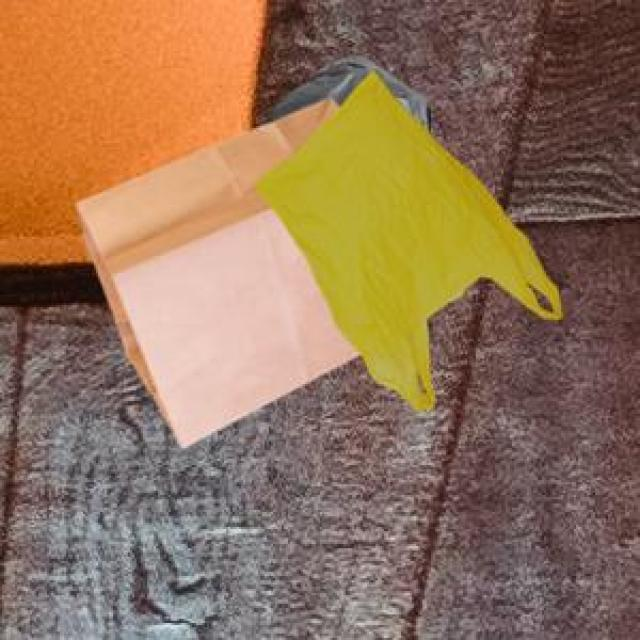miscellaneous trash: (258, 53, 430, 137)
paper: (73, 96, 356, 444)
